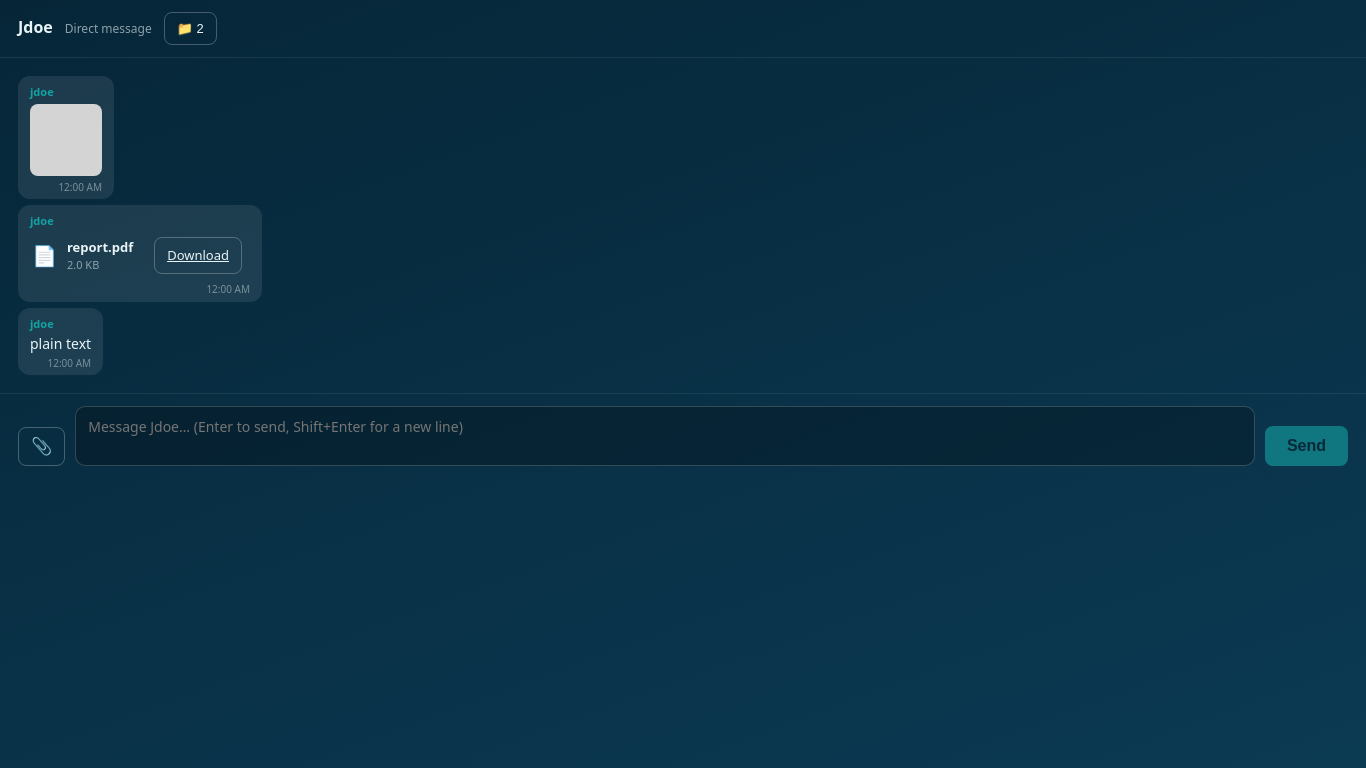
it: Conversation: file sharing (Batch 5) › shows the files drawer with every shared file, toggled from the header
Later steps or results of the test are not shown.
Click the button titled "Files shared in this room": (190, 28) [164,12,217,45]
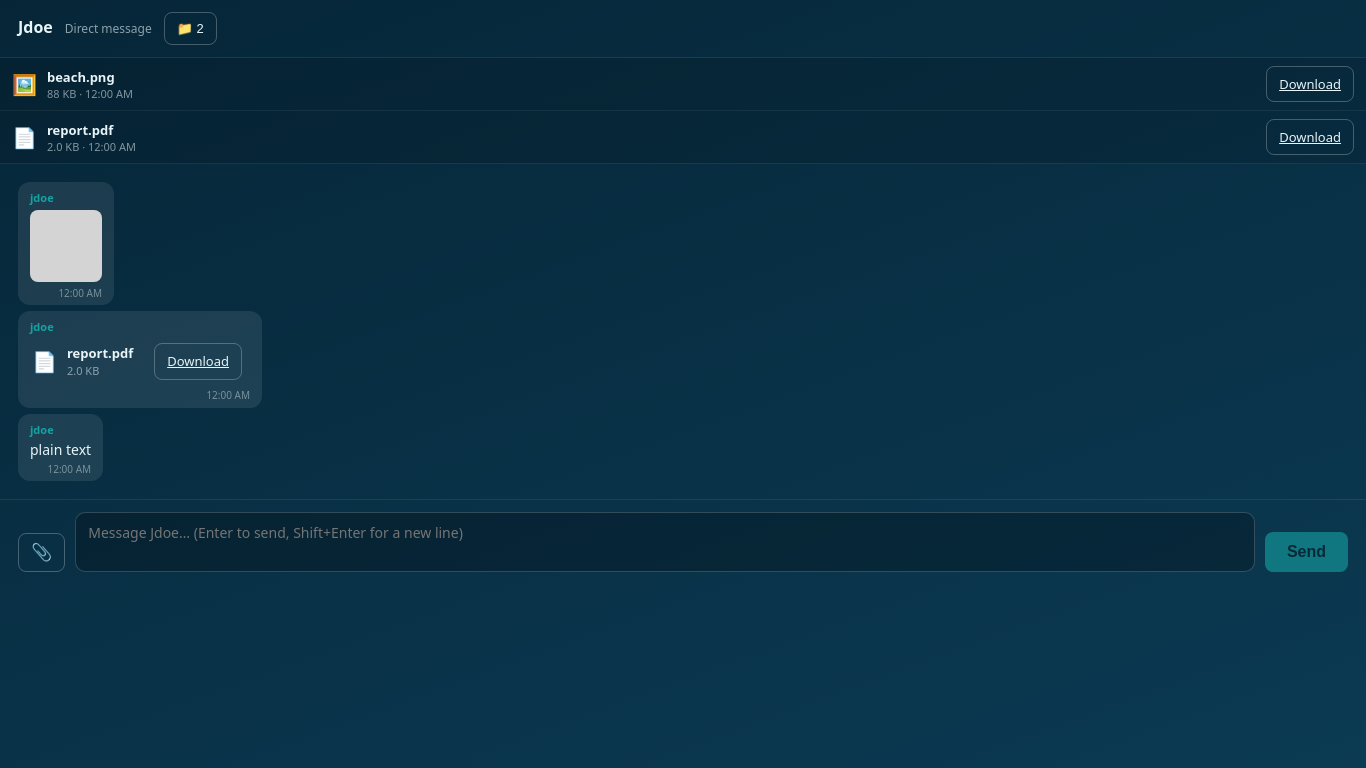
Now the element named "Files in this room" shows "beach.png", box [47,68,115,86]
Now the element named "Files in this room" shows "report.pdf", box [47,120,113,138]
